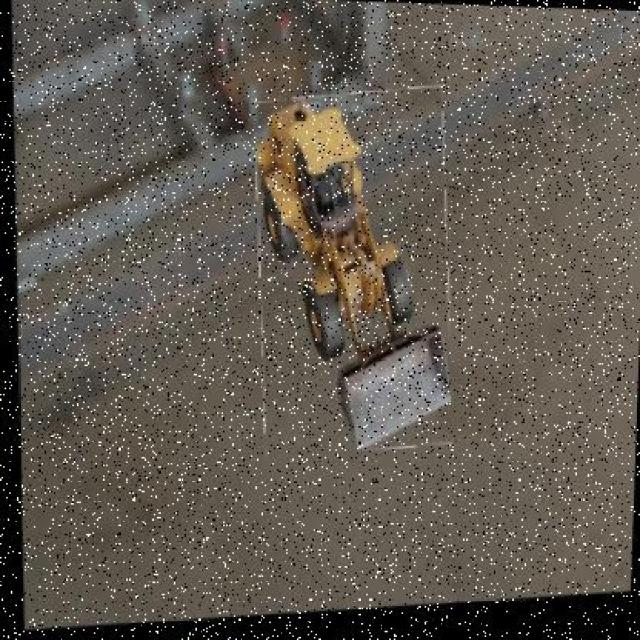buldozerpayloadergrader: (247, 96, 464, 455)
